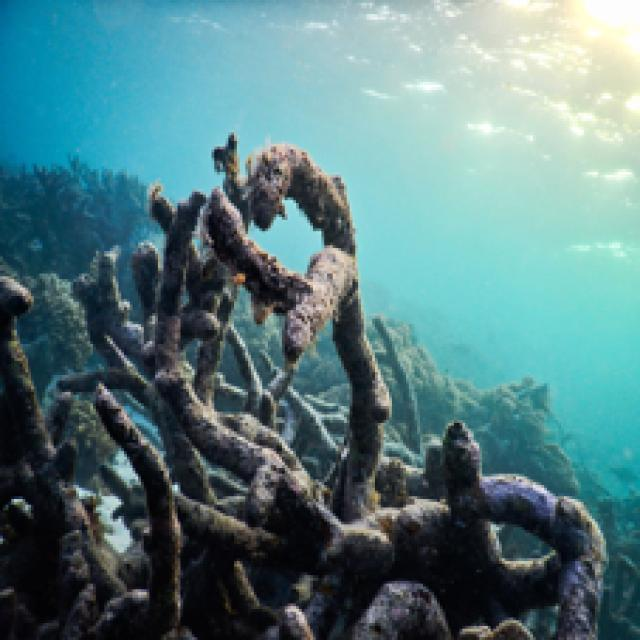Dead Coral: (0, 126, 626, 640)
